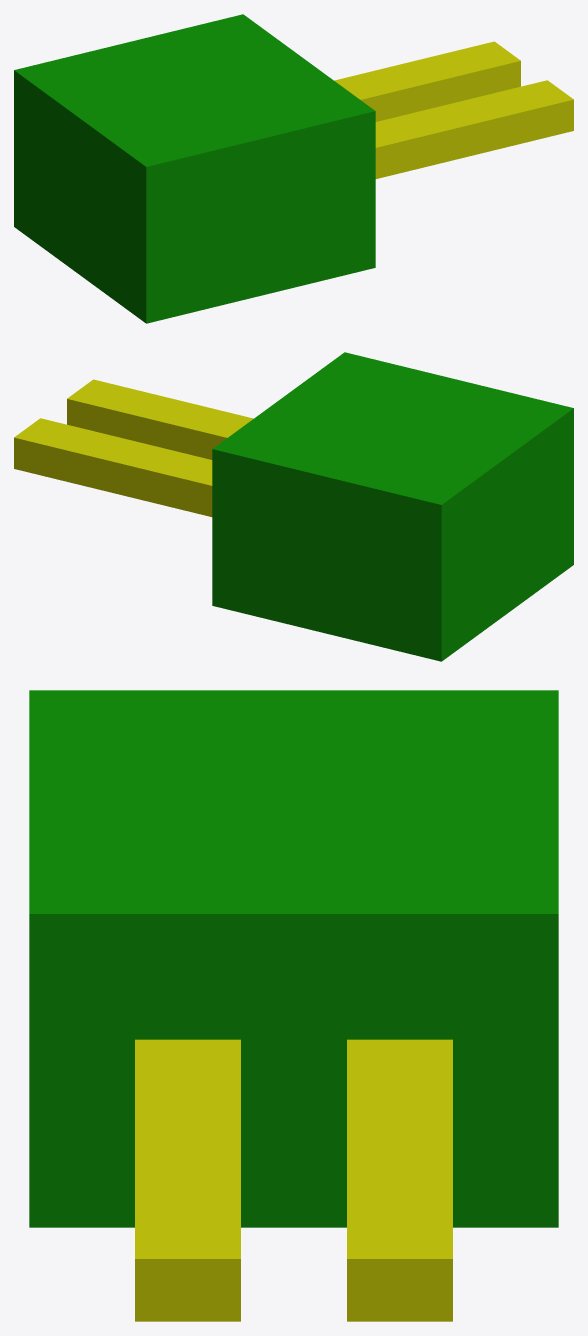
Rendered from Cannon top.fbx.
3 views of the same model, one above another, from view 1: azimuth 30°, elevation 25°; view 2: azimuth 150°, elevation 25°; view 3: azimuth 270°, elevation 25° (orthographic). The views are drawn at different scales.
Visible parts, largest first — view 1: Cube.001; view 2: Cube.001; view 3: Cube.001.
Boxes of the visible parts, left/top/right/bottom form: Cube.001: left=14, top=14, right=573, bottom=323; Cube.001: left=14, top=352, right=573, bottom=661; Cube.001: left=29, top=690, right=558, bottom=1321.
Bounding box in the file's own units: 396 × 131 × 200.
